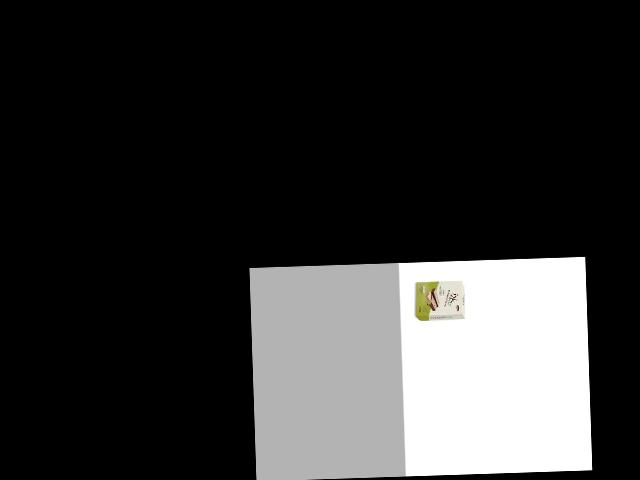chocolate: (411, 276, 466, 323)
